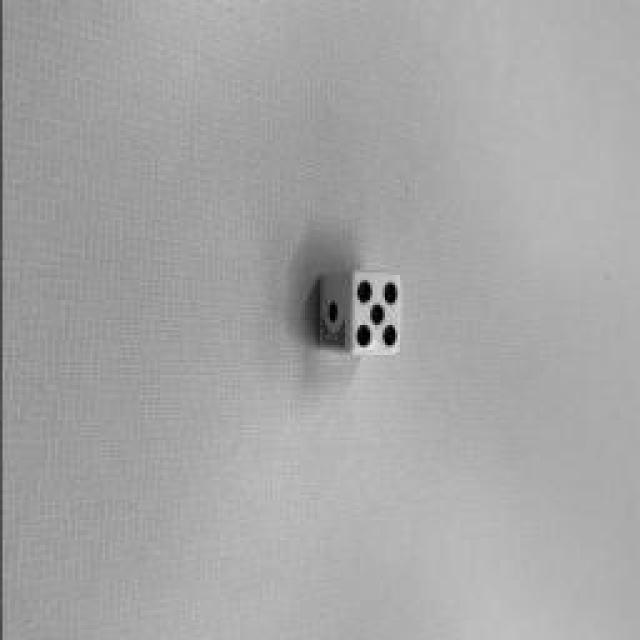dice_5: (352, 273, 400, 355)
